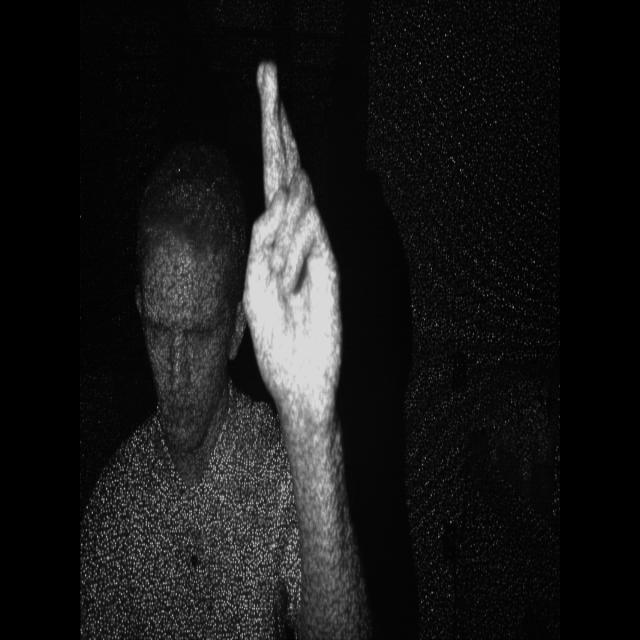R: (245, 55, 354, 402)
